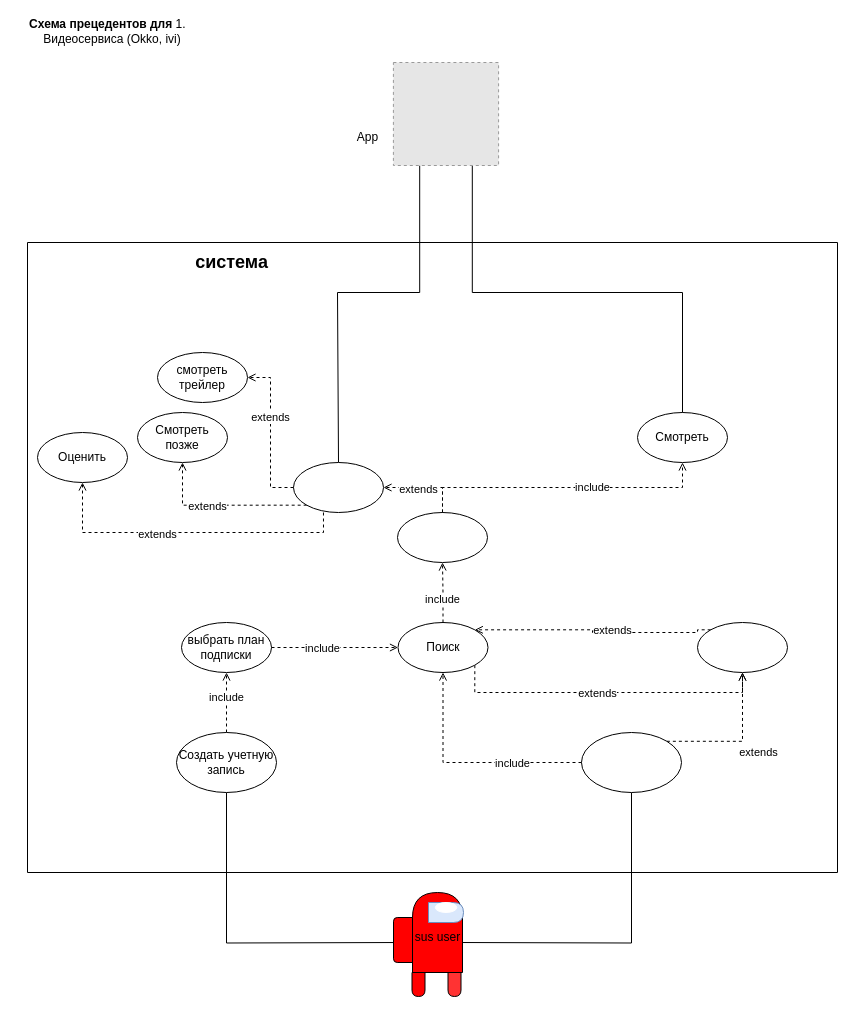
The diagram is 856 pixels wide and 1014 high, and some of its shapes have lost their labels. Grey dashed boxes stand in for pictures. Each missing label, with the box of its shape:
выбрать Фильма/Сериала: (396, 512, 488, 562)
изменить подписку: (696, 622, 788, 672)
О фильме/сериале: (292, 462, 384, 512)
открыть учетную запись: (580, 732, 682, 792)
